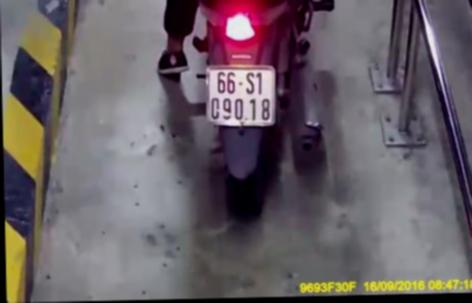License_Plate: (203, 64, 278, 131)
